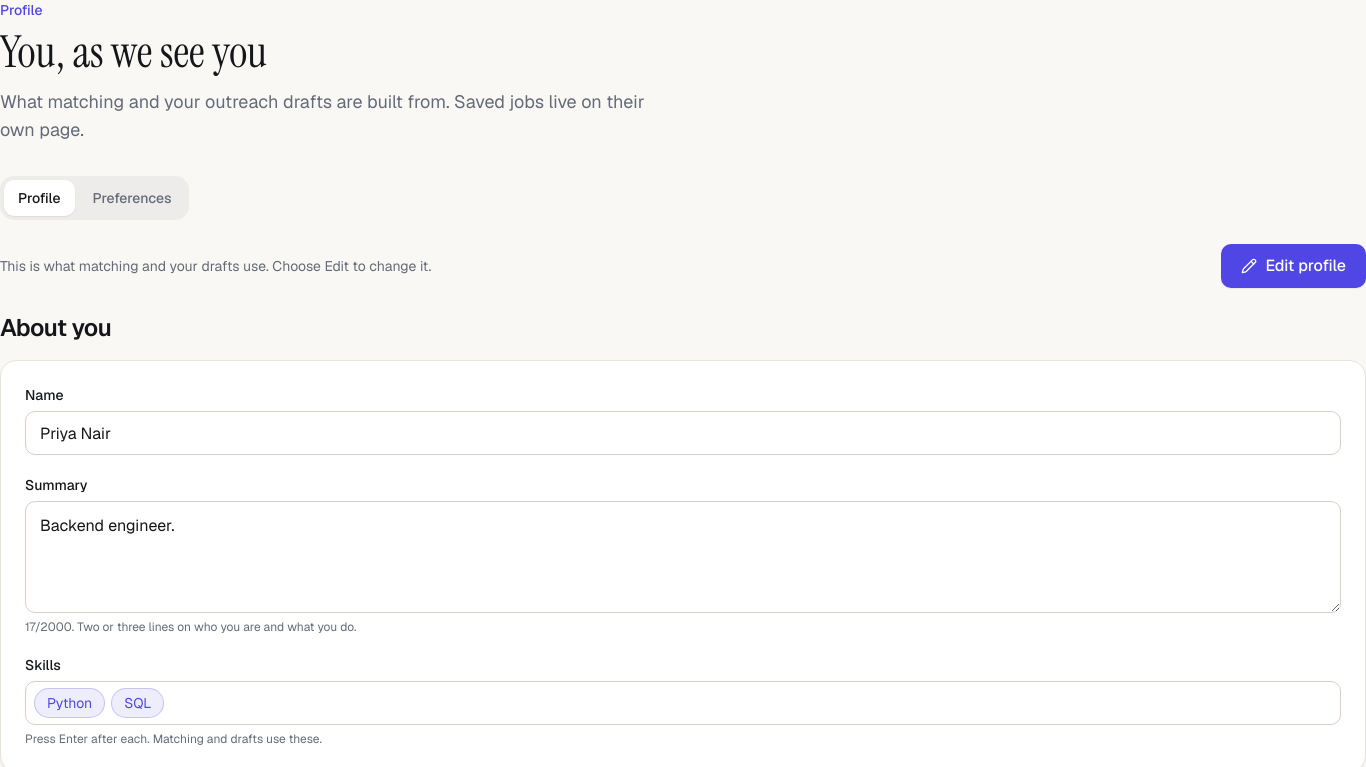
Test: Profile editing › Edit switches to edit mode with Save and Cancel
Click the button "Edit profile". click: (1294, 266)
box: [1221,244,1365,288]
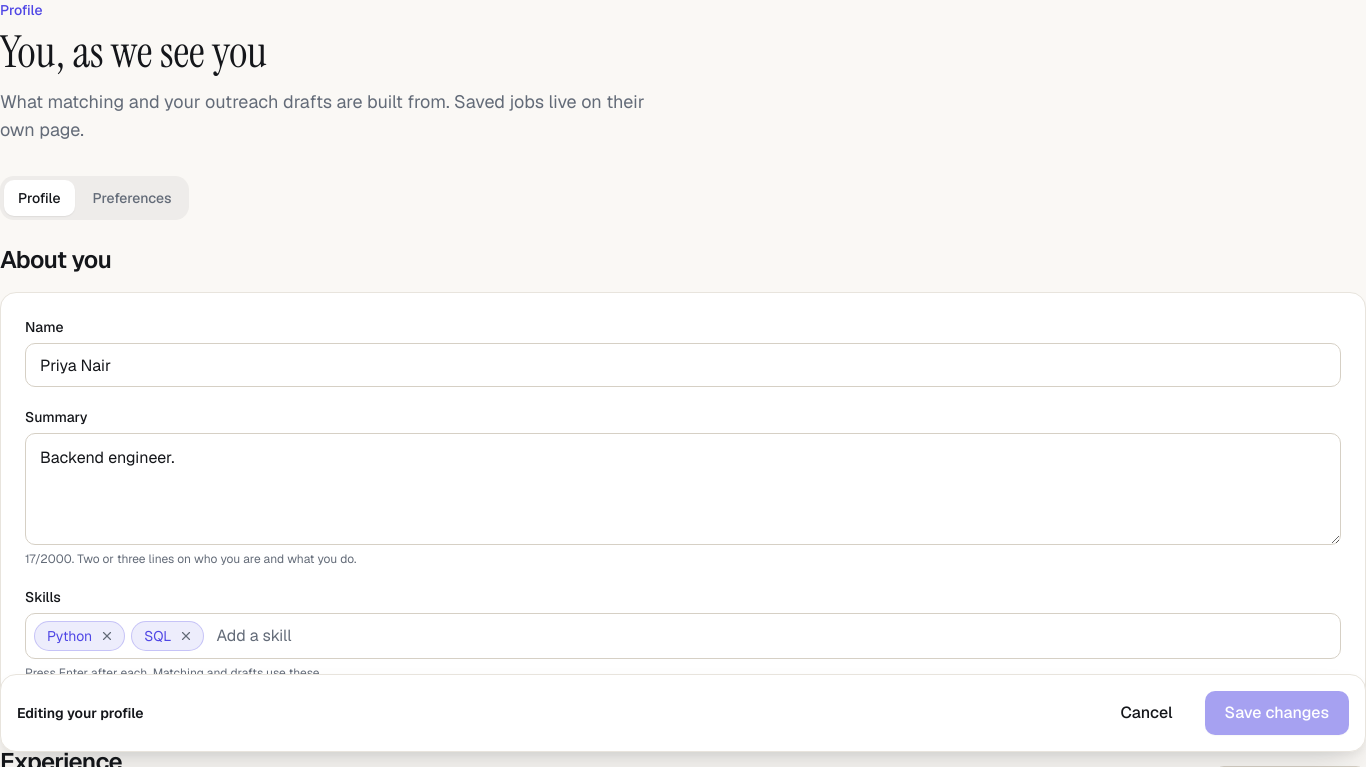
Expected: the element "Editing your profile Cancel Save changes" is shown, [0,674,1365,752]
Expected: the button "Save changes" is disabled, [1205,691,1349,735]
Expected: the button "Cancel" is enabled, [1100,691,1193,735]
